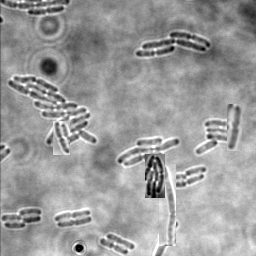Dividing: (159, 164, 176, 246), (227, 104, 242, 151), (53, 121, 70, 155), (99, 238, 128, 255), (54, 209, 90, 222), (56, 217, 92, 228), (176, 175, 204, 189), (27, 7, 64, 17)
Microcolony: (7, 76, 98, 147), (117, 137, 180, 168), (135, 32, 211, 57), (195, 120, 238, 155), (145, 154, 165, 198), (1, 208, 42, 229)
Rod: (106, 233, 135, 251), (184, 167, 206, 177), (176, 174, 187, 183)
